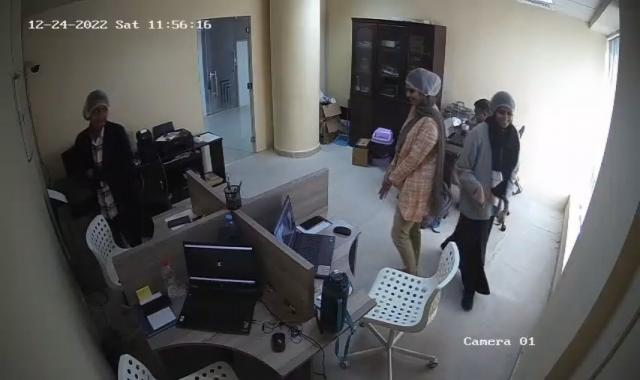hairnet: (405, 65, 441, 107), (82, 88, 111, 129), (489, 91, 516, 130)
no_hairnet: (472, 96, 489, 122)
